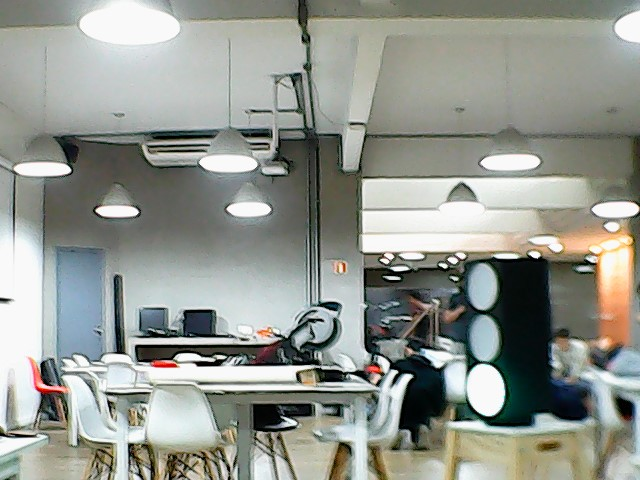verde: (459, 257, 556, 423)
